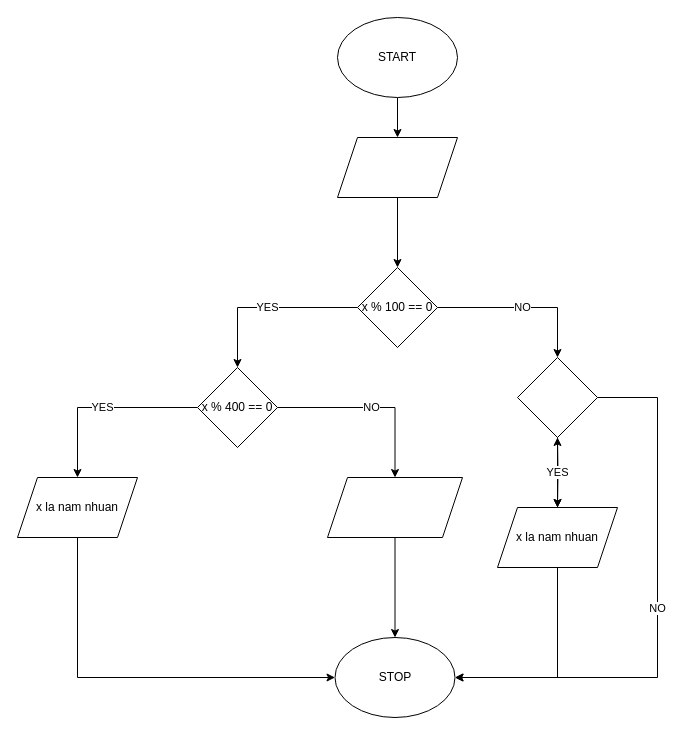
Some shapes in this 683 by 735 pixel diagram are drawn without their labels. Here are the shapes that lost their labels. From the top down, the centre of each, then its label:
pixel 397 167: Input x
pixel 557 397: x % 4 ==0
pixel 394 507: x khong phai la nam nhuan
